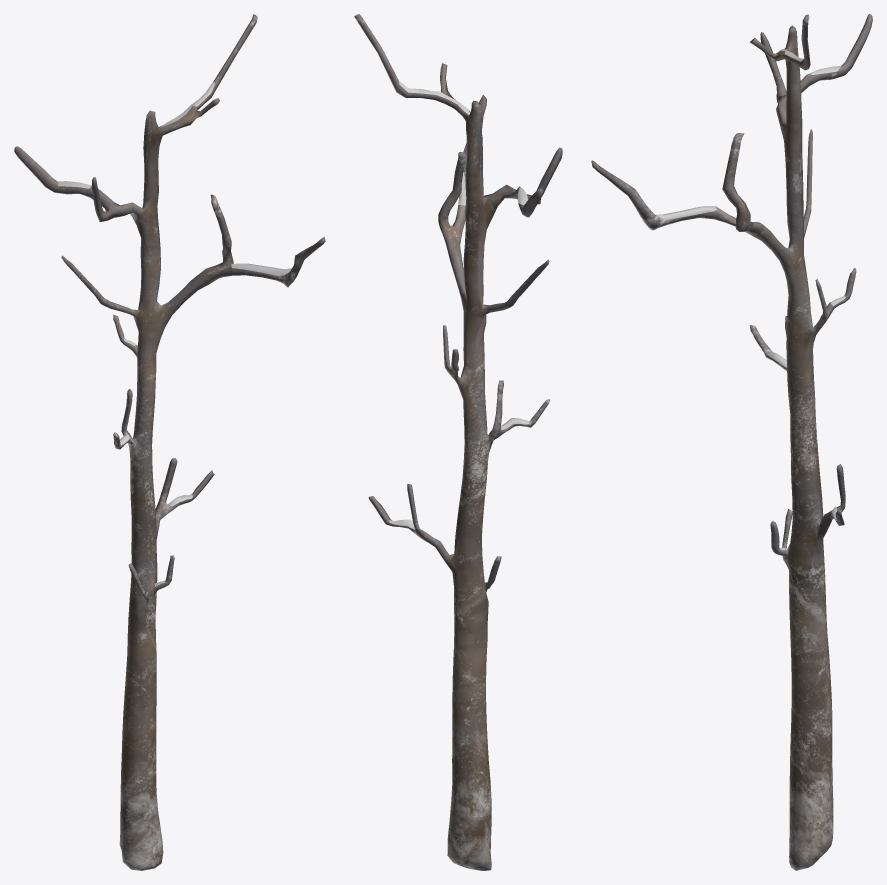
The model's file is birch tree snoo.fbx.
3 renders of one model, left to right at view 1: azimuth 30°, elevation 25°; view 2: azimuth 150°, elevation 25°; view 3: azimuth 270°, elevation 25°, orthographic. The views are drawn at different scales.
Parts seen in each view (by area): view 1: birch tree, snowbirch; view 2: birch tree, snowbirch; view 3: birch tree, snowbirch.
Part boxes in pixels (bbox=[...]): birch tree: bbox=[14, 14, 325, 870]; snowbirch: bbox=[58, 81, 291, 586]; birch tree: bbox=[354, 14, 562, 870]; snowbirch: bbox=[389, 81, 529, 529]; birch tree: bbox=[591, 14, 872, 870]; snowbirch: bbox=[655, 49, 845, 550].
Size of the model in its own units: 12.26 by 44.92 by 12.6.
